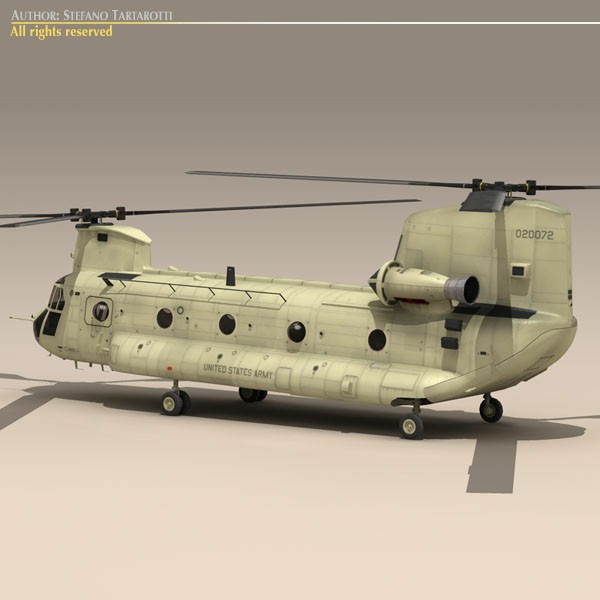chinook: (23, 167, 592, 433)
